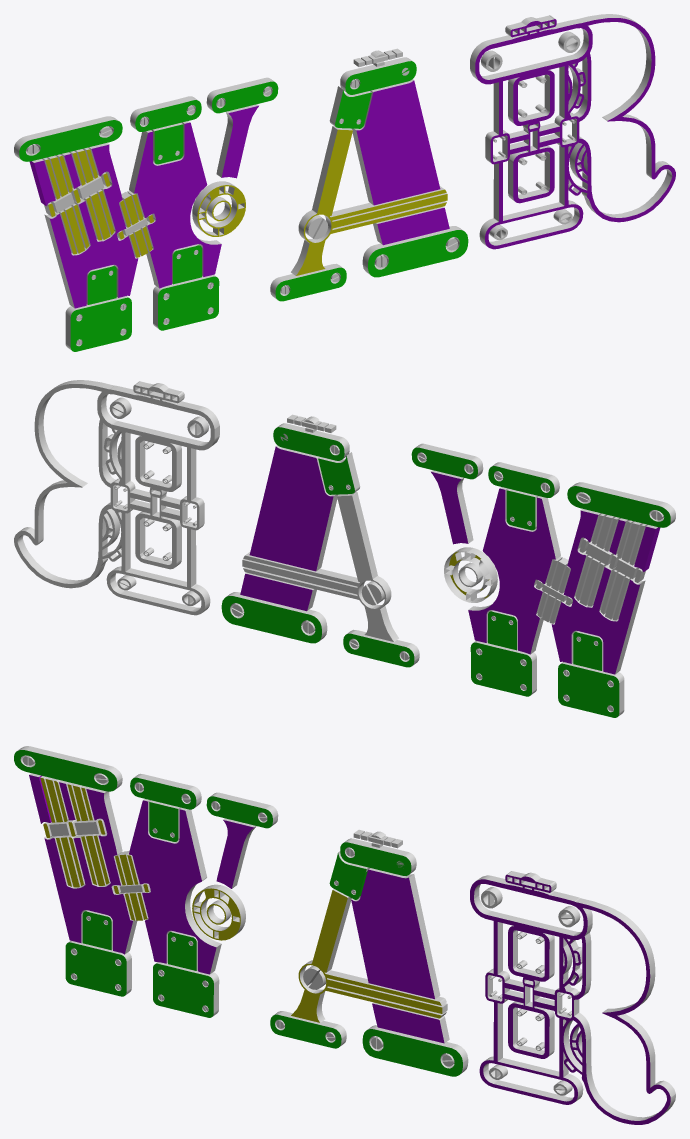
Rendered from WAR.fbx.
The picture shows the model from 3 angles, top to bottom: view 1: azimuth 30°, elevation 25°; view 2: azimuth 150°, elevation 25°; view 3: azimuth 330°, elevation 25°; orthographic projection.
Parts seen in each view (by area): view 1: typeMesh2; view 2: typeMesh2; view 3: typeMesh2.
Boxes of the visible parts, <box> form: typeMesh2: <box>14,14,675,351</box>; typeMesh2: <box>14,380,675,717</box>; typeMesh2: <box>14,746,675,1124</box>.
Size of the model in its own units: 181 by 59.8 by 2.5.
